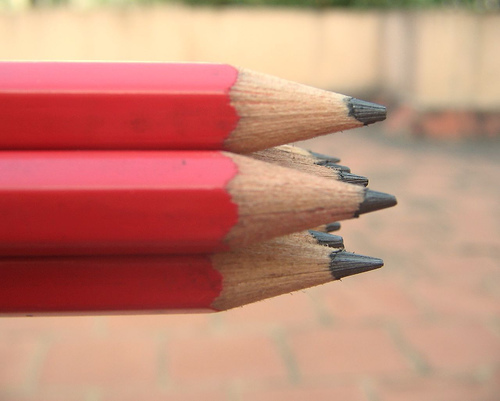pen_tip: (217, 49, 403, 150), (229, 150, 411, 244)
